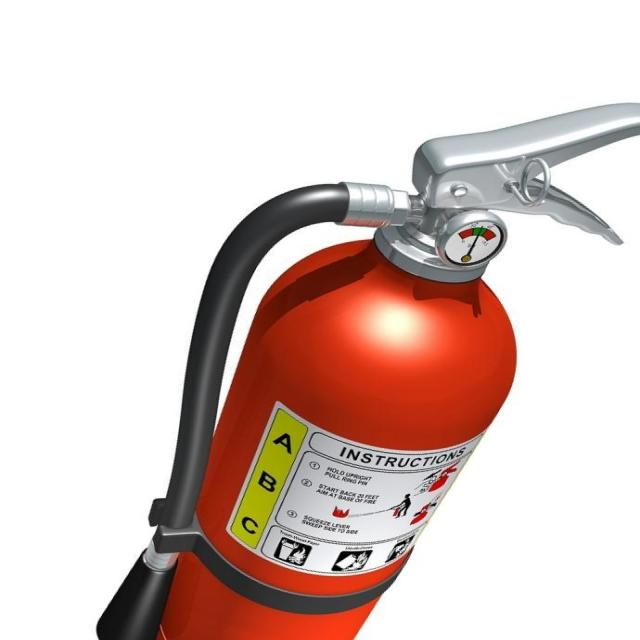fire_extinguisher: (87, 96, 639, 639)
